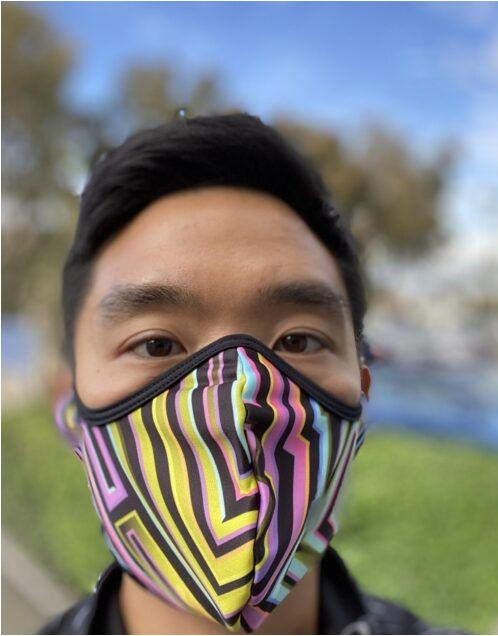face_with_mask: (54, 127, 385, 632)
